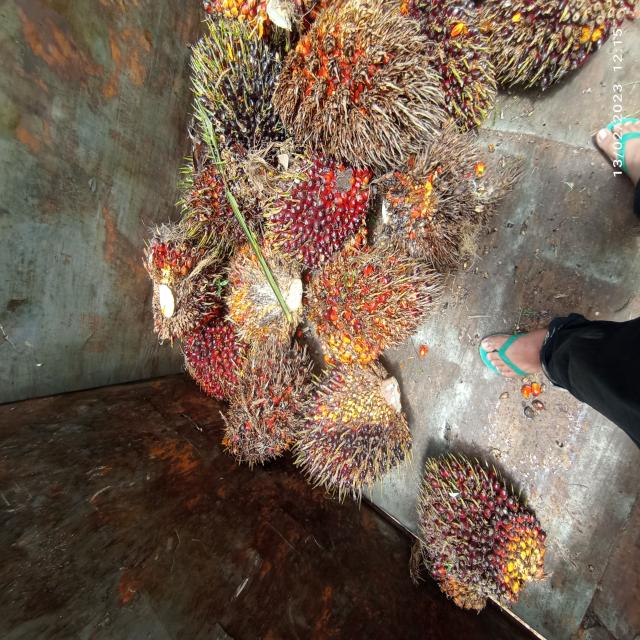fraksi 00: (412, 435, 562, 617), (179, 17, 302, 180), (299, 354, 419, 496)
fraksi 1: (137, 220, 221, 348)
fraksi 3: (264, 134, 368, 258), (162, 308, 251, 404)
fraksi 4: (278, 0, 434, 190), (382, 152, 500, 278), (308, 255, 436, 361), (224, 350, 316, 464)
